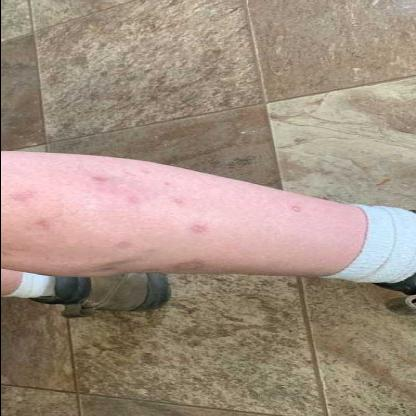Bed Bug: (84, 174, 138, 206), (156, 180, 191, 206), (166, 254, 204, 272), (5, 186, 38, 204), (107, 239, 143, 253), (181, 221, 211, 236), (29, 216, 55, 232), (282, 204, 318, 214)
